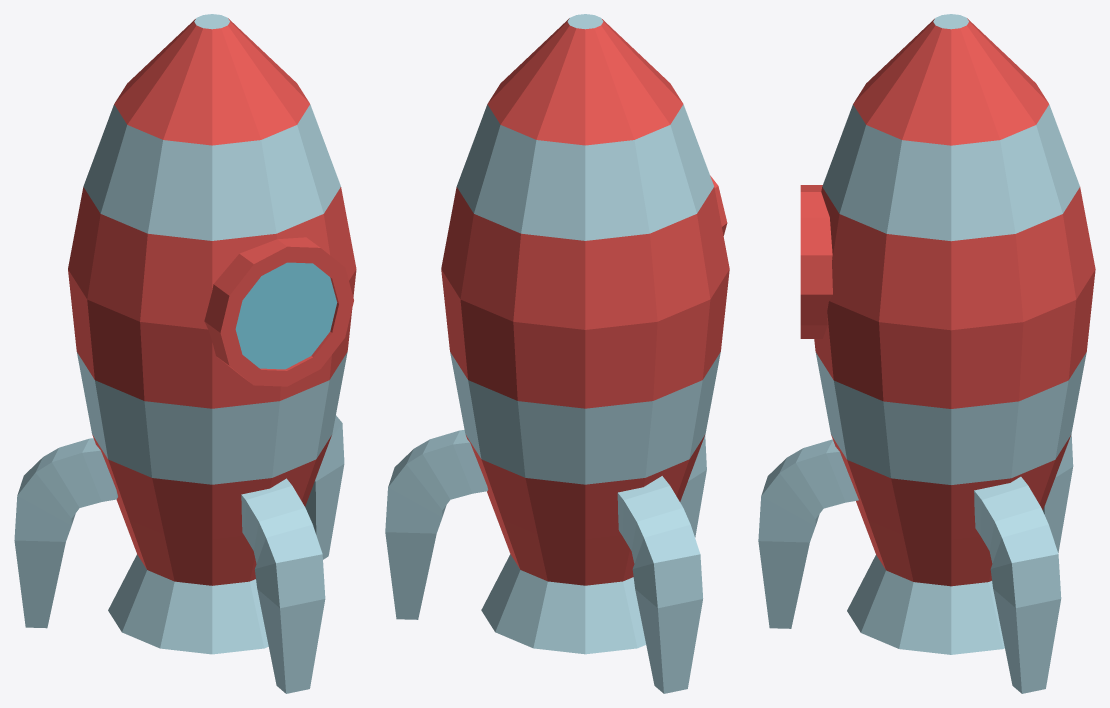
File: rocket.fbx
The picture shows the model from 3 angles, left to right: view 1: azimuth 30°, elevation 25°; view 2: azimuth 150°, elevation 25°; view 3: azimuth 270°, elevation 25°; orthographic projection.
Visible parts, largest first — view 1: Cylinder; view 2: Cylinder; view 3: Cylinder.
Boxes of the visible parts, left/top/right/bottom form: Cylinder: left=14, top=14, right=356, bottom=693; Cylinder: left=385, top=14, right=729, bottom=693; Cylinder: left=758, top=14, right=1095, bottom=693.
Size of the model in its own units: 153 by 274 by 139.
